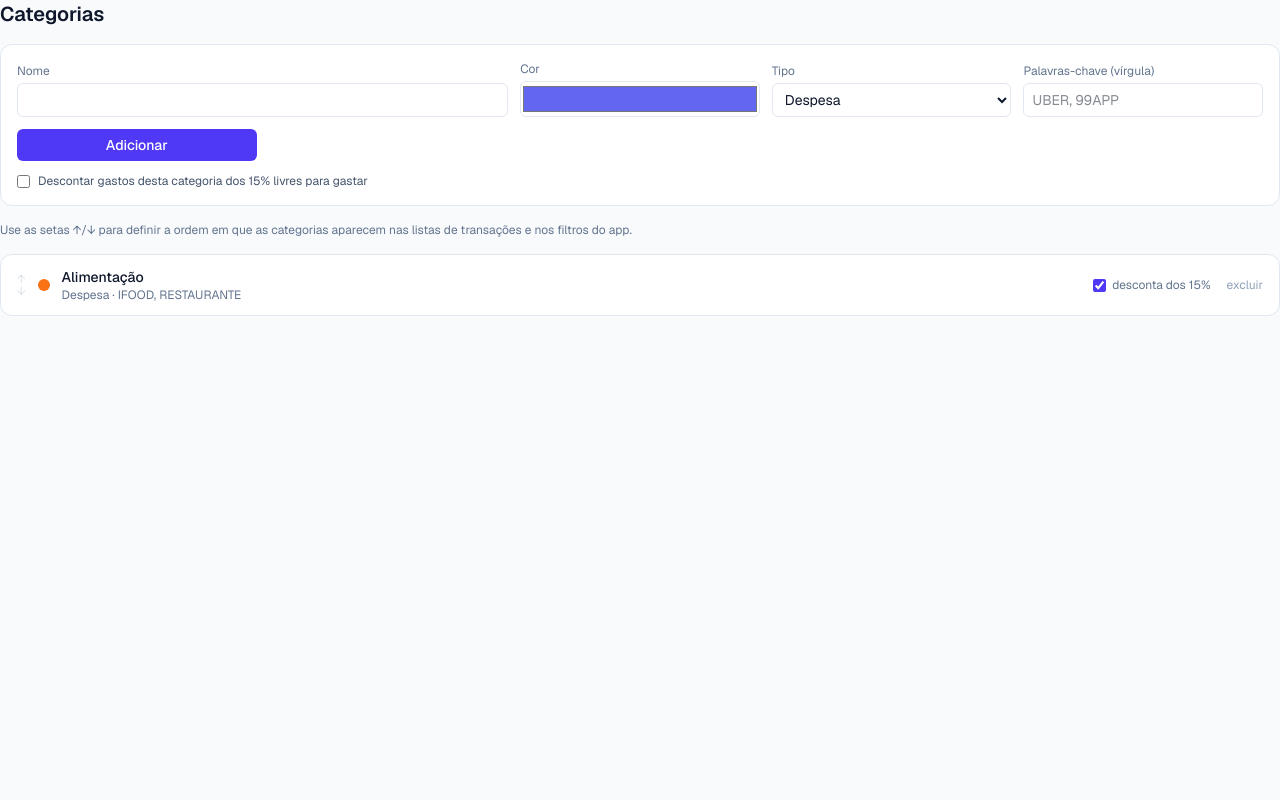
it: página /categorias — exclusão › pede confirmação nomeando a categoria
Expected: the text "Alimentação" is shown, [62,268,144,286]
What coordinates should you click on to do the following:
click the button "excluir"
I would click on:
 (1245, 285)
Its box is [1227,277,1263,293].
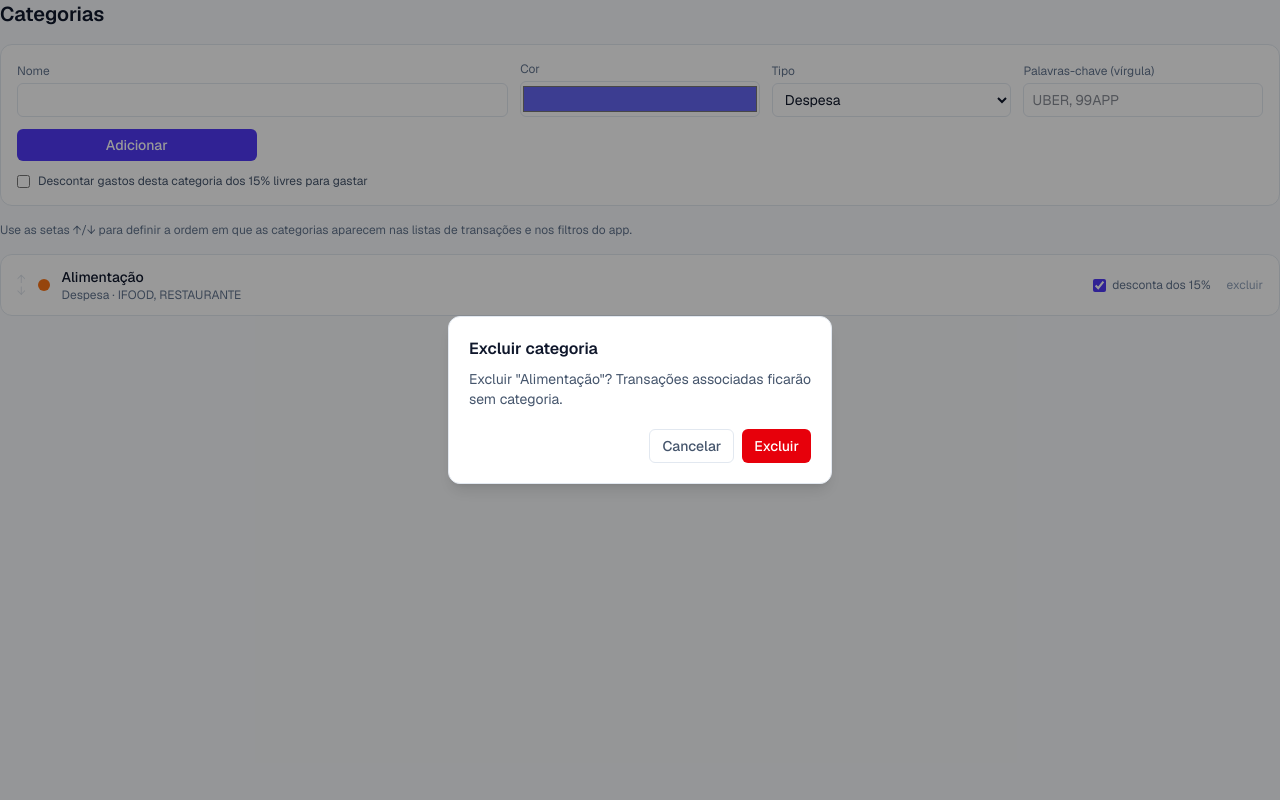
Expected: the heading "Excluir categoria" is shown, [469,338,598,359]
Expected: the text "ficarão sem categoria" is shown, [469,370,811,408]
